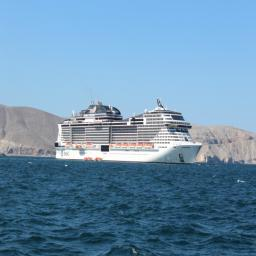cruises: (53, 99, 205, 169)
